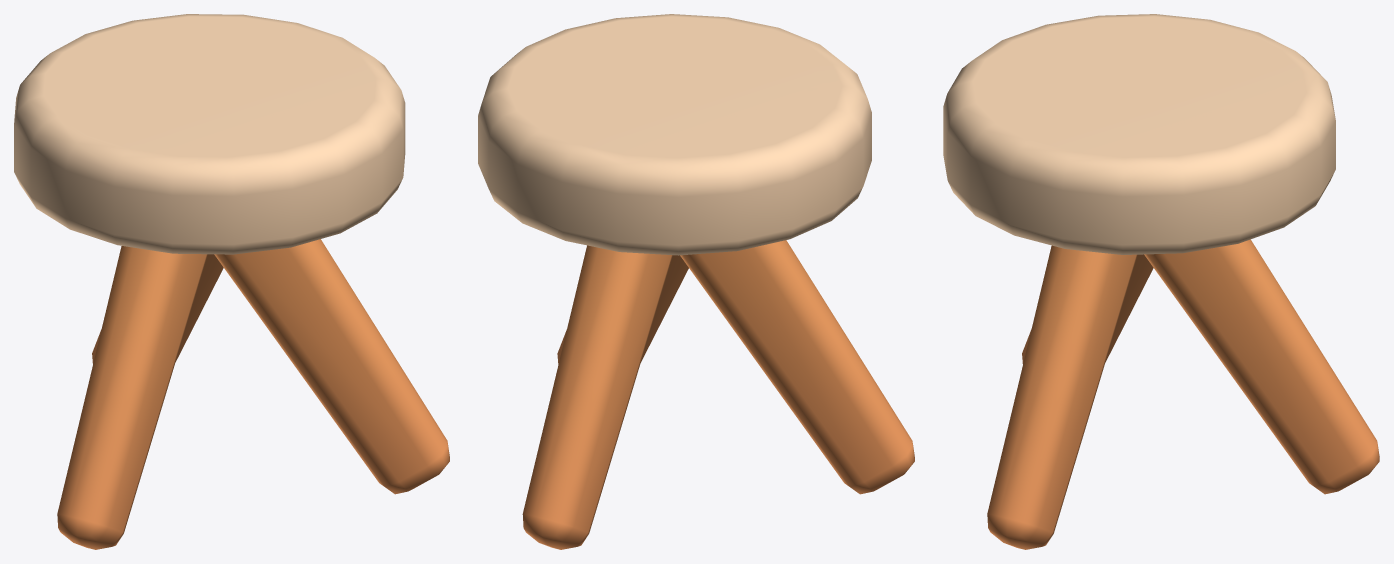
The model's file is Kitchen_stool_003.glb.
3 views of the same model, side by side, from view 1: azimuth 30°, elevation 25°; view 2: azimuth 150°, elevation 25°; view 3: azimuth 270°, elevation 25° (orthographic).
Visible parts, largest first — view 1: Kitchen_stool_003; view 2: Kitchen_stool_003; view 3: Kitchen_stool_003.
Boxes of the visible parts, x1,y1,x2,y2 form: Kitchen_stool_003: [14, 14, 449, 549]; Kitchen_stool_003: [478, 14, 914, 549]; Kitchen_stool_003: [943, 14, 1379, 549].
Bounding box in the file's own units: 0.4554 × 0.464 × 0.465.
1 material, 1 textured.
